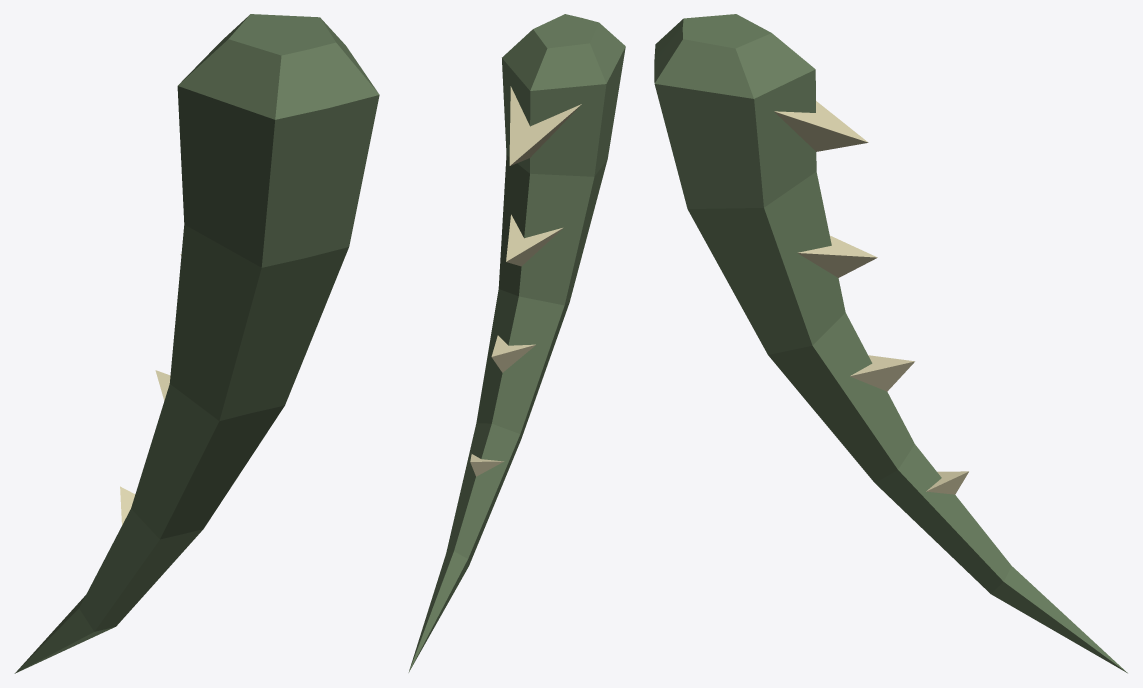
File: LarvaeLegEndRF.fbx
The picture shows the model from 3 angles, left to right: view 1: azimuth 30°, elevation 25°; view 2: azimuth 150°, elevation 25°; view 3: azimuth 270°, elevation 25°; orthographic projection. The views are drawn at different scales.
Visible parts, largest first — view 1: Claw21; view 2: Claw21; view 3: Claw21.
Part boxes in pixels (x1,y1,x2,y2): Claw21: (14, 14, 379, 673); Claw21: (408, 14, 625, 672); Claw21: (654, 14, 1127, 673).
Bounding box in the file's own units: 0.8081 × 3.84 × 2.54.
